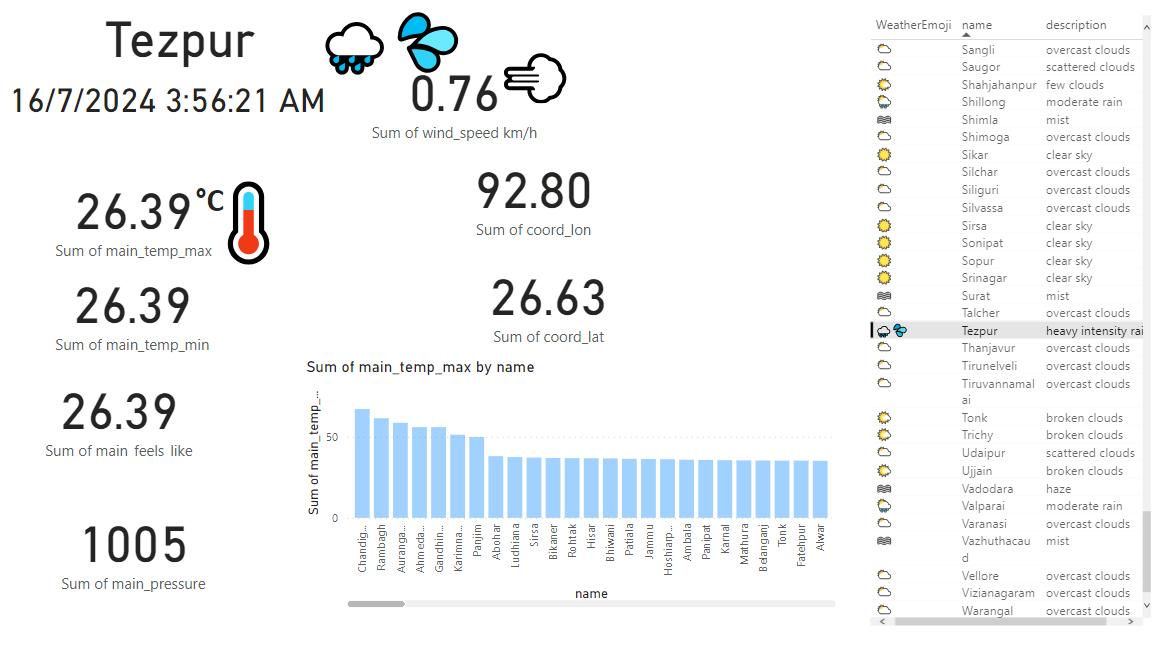

Layout of this report page (visuals, bound fields, positions):
{"tool":"powerbi","page":{"name":"cards","canvas":[1280,720],"ordinal":2},"visuals":[{"type":"card","fields":{"Values":["Min(finalOpenWeatherData.name)"]},"box":[0,21.1,413,68],"z":0},{"type":"card","fields":{"Values":["Sum(finalOpenWeatherData.main_temp_max)"]},"box":[0,170.1,313.1,141.5],"z":1000},{"type":"card","fields":{"Values":["Sum(finalOpenWeatherData.main_temp_min)"]},"box":[30.8,289.9,249.4,105.3],"z":2000},{"type":"card","fields":{"Values":["Sum(finalOpenWeatherData.main_pressure)"]},"box":[0,529.3,313.1,141.5],"z":3000},{"type":"card","fields":{"Values":["finalOpenWeatherData.degree emoji"]},"box":[205,189.1,66.8,68.3],"z":4000},{"type":"tableEx","fields":{"Values":["finalOpenWeatherData.name","finalOpenWeatherData.description","finalOpenWeatherData.WeatherEmoji"]},"box":[947.3,20.7,313.1,669.1],"z":5000},{"type":"card","fields":{"Values":["Min(finalOpenWeatherData.date_time)"]},"box":[0,89,386.2,50.9],"z":6000},{"type":"card","fields":{"Values":["finalOpenWeatherData.temperature"]},"box":[223.5,173.3,115,137.7],"z":7000},{"type":"card","fields":{"Values":["Sum(finalOpenWeatherData.wind_speed)"]},"box":[396,39.5,213,150],"z":8000},{"type":"card","fields":{"Values":["Sum(finalOpenWeatherData.main_feels_like)"]},"box":[30.8,408.1,220.3,98.8],"z":9000},{"type":"card","fields":{"Values":["finalOpenWeatherData.windspeed emoji"]},"box":[524.7,51.8,131.2,74.5],"z":10000},{"type":"card","fields":{"Values":["Sum(finalOpenWeatherData.coord_lon)"]},"box":[442.1,162,293.1,113.4],"z":11000},{"type":"card","fields":{"Values":["Sum(finalOpenWeatherData.coord_lat)"]},"box":[474.5,275.3,260.8,118.2],"z":12000},{"type":"card","fields":{"Values":["finalOpenWeatherData.WeatherEmoji"]},"box":[338.5,6.5,194.3,89.1],"z":13000},{"type":"lineStackedColumnComboChart","fields":{"Category":["finalOpenWeatherData.name"],"Y":["Sum(finalOpenWeatherData.main_temp_max)"]},"box":[338.5,395.2,581.4,275.3],"z":14000}]}

Visuals, with their boxes in screenshot pixels (x1, y1, x2, y2), scaled from the page's 1280x720 canvas onto the 1169x657 screenshot:
card - Min(finalOpenWeatherData.name): 0:19:377:81
card - Sum(finalOpenWeatherData.main_temp_max): 0:155:286:284
card - Sum(finalOpenWeatherData.main_temp_min): 28:265:256:361
card - Sum(finalOpenWeatherData.main_pressure): 0:483:286:612
card - finalOpenWeatherData.degree emoji: 187:173:248:235
tableEx - finalOpenWeatherData.name x finalOpenWeatherData.description: 865:19:1151:629
card - Min(finalOpenWeatherData.date_time): 0:81:353:128
card - finalOpenWeatherData.temperature: 204:158:309:284
card - Sum(finalOpenWeatherData.wind_speed): 362:36:556:173
card - Sum(finalOpenWeatherData.main_feels_like): 28:372:229:463
card - finalOpenWeatherData.windspeed emoji: 479:47:599:115
card - Sum(finalOpenWeatherData.coord_lon): 404:148:671:251
card - Sum(finalOpenWeatherData.coord_lat): 433:251:672:359
card - finalOpenWeatherData.WeatherEmoji: 309:6:487:87
lineStackedColumnComboChart - finalOpenWeatherData.name x Sum(finalOpenWeatherData.main_temp_max): 309:361:840:612
